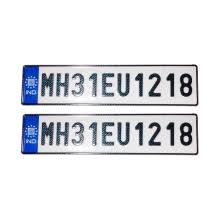inlp: (16, 109, 201, 160), (18, 61, 200, 109)
